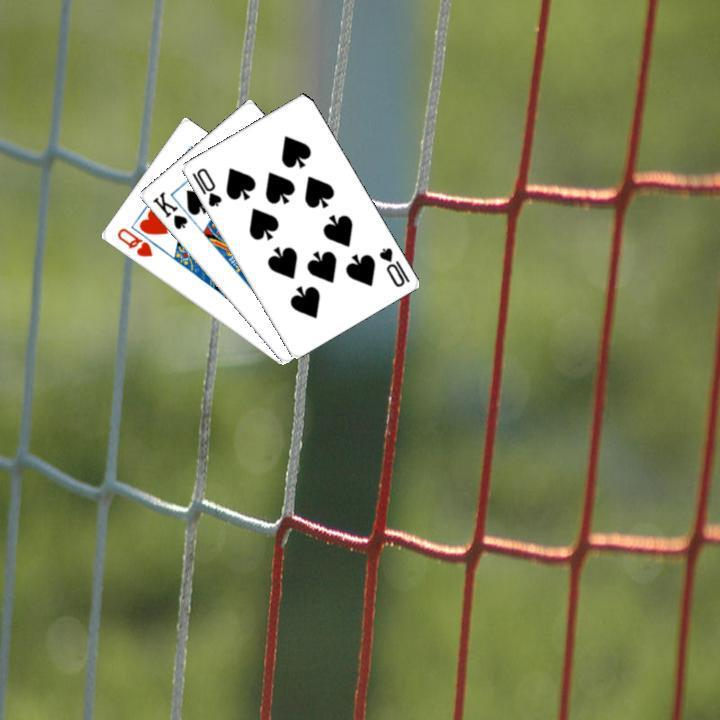10: (374, 243, 411, 289), (187, 163, 223, 209)
K: (148, 187, 189, 232)
Q: (112, 223, 154, 259)
